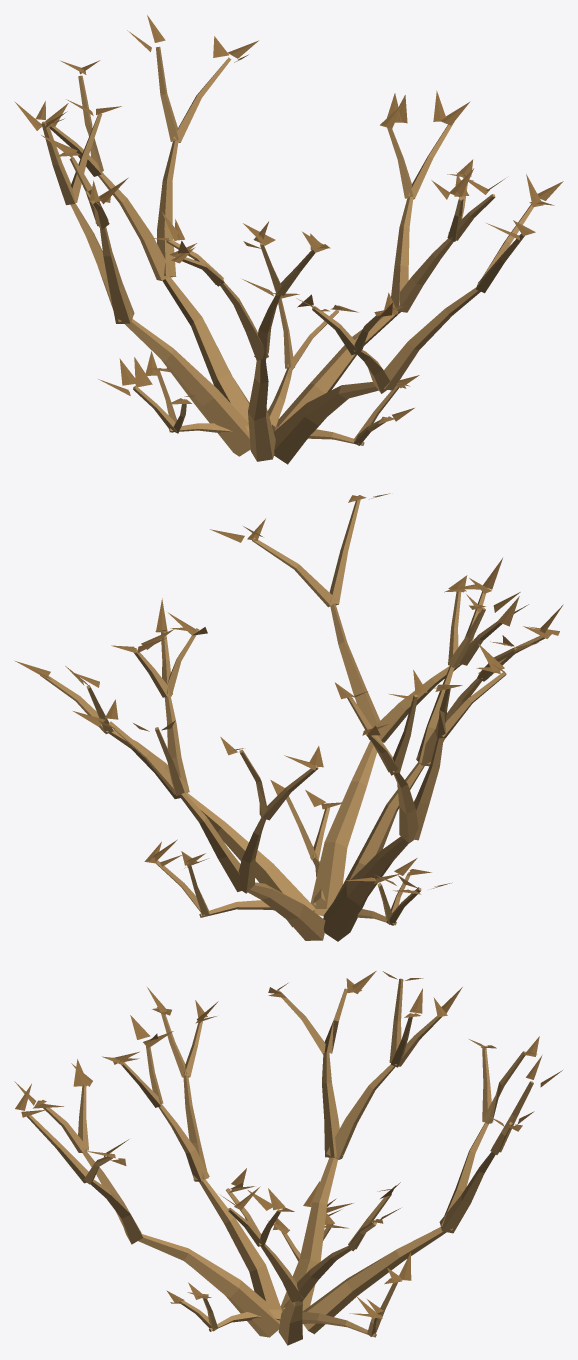
The model's file is desert_shrub.glb.
The picture shows the model from 3 angles, top to bottom: view 1: azimuth 30°, elevation 25°; view 2: azimuth 150°, elevation 25°; view 3: azimuth 270°, elevation 25°; orthographic projection. The views are drawn at different scales.
Visible parts, largest first — view 1: desert_shrub; view 2: desert_shrub; view 3: desert_shrub.
Boxes of the visible parts, bbox=[...] form: desert_shrub: bbox=[14, 15, 563, 464]; desert_shrub: bbox=[14, 493, 563, 941]; desert_shrub: bbox=[14, 971, 562, 1345].
Bounding box in the file's own units: 1.22 × 0.9 × 1.49.
